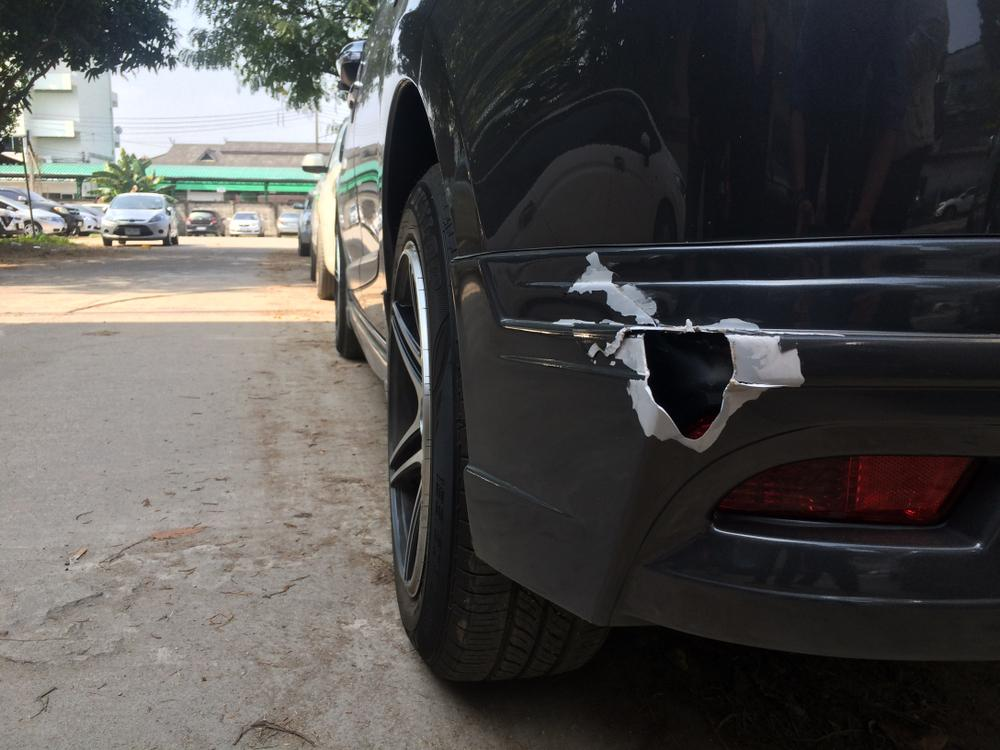crack: (592, 327, 737, 441)
